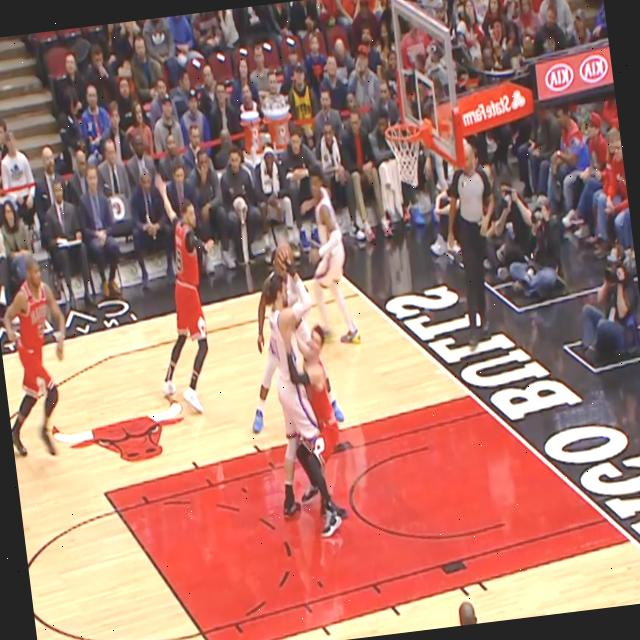foul: (230, 234, 386, 573)
